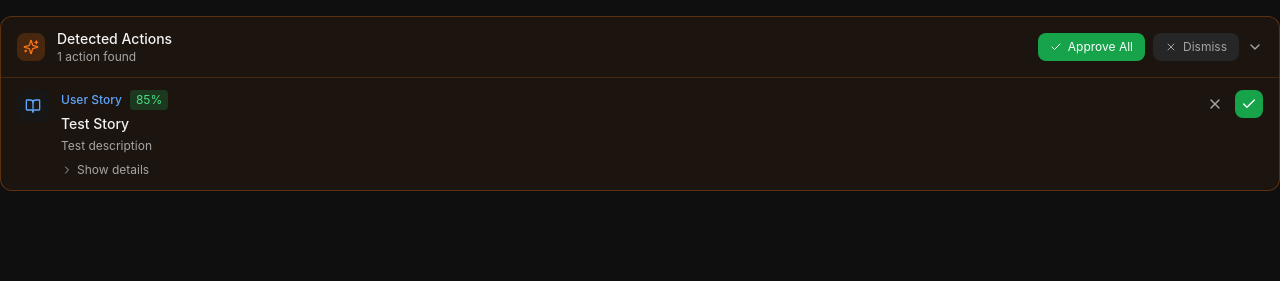
Test: ActionConfirmation › Approve Action › should show success state after successful execution
Click the button titled "Create": coordinates (1249, 104) [1235,90,1263,118]
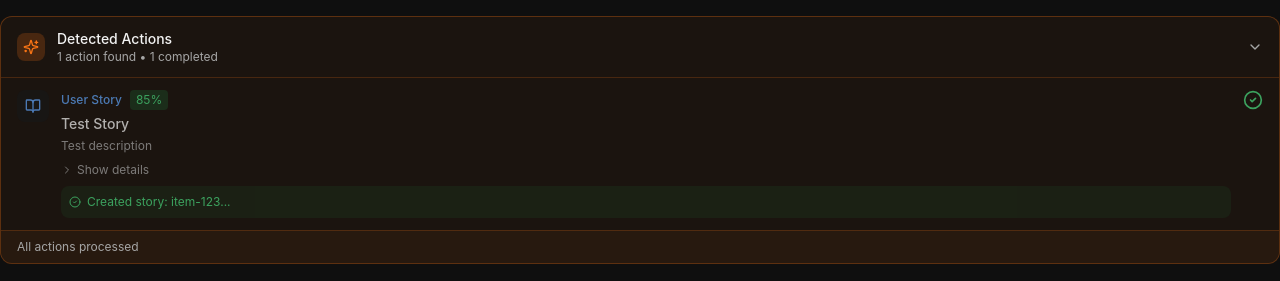
Result: the text "Created story: item-123..." is shown at [69,194,231,209]
